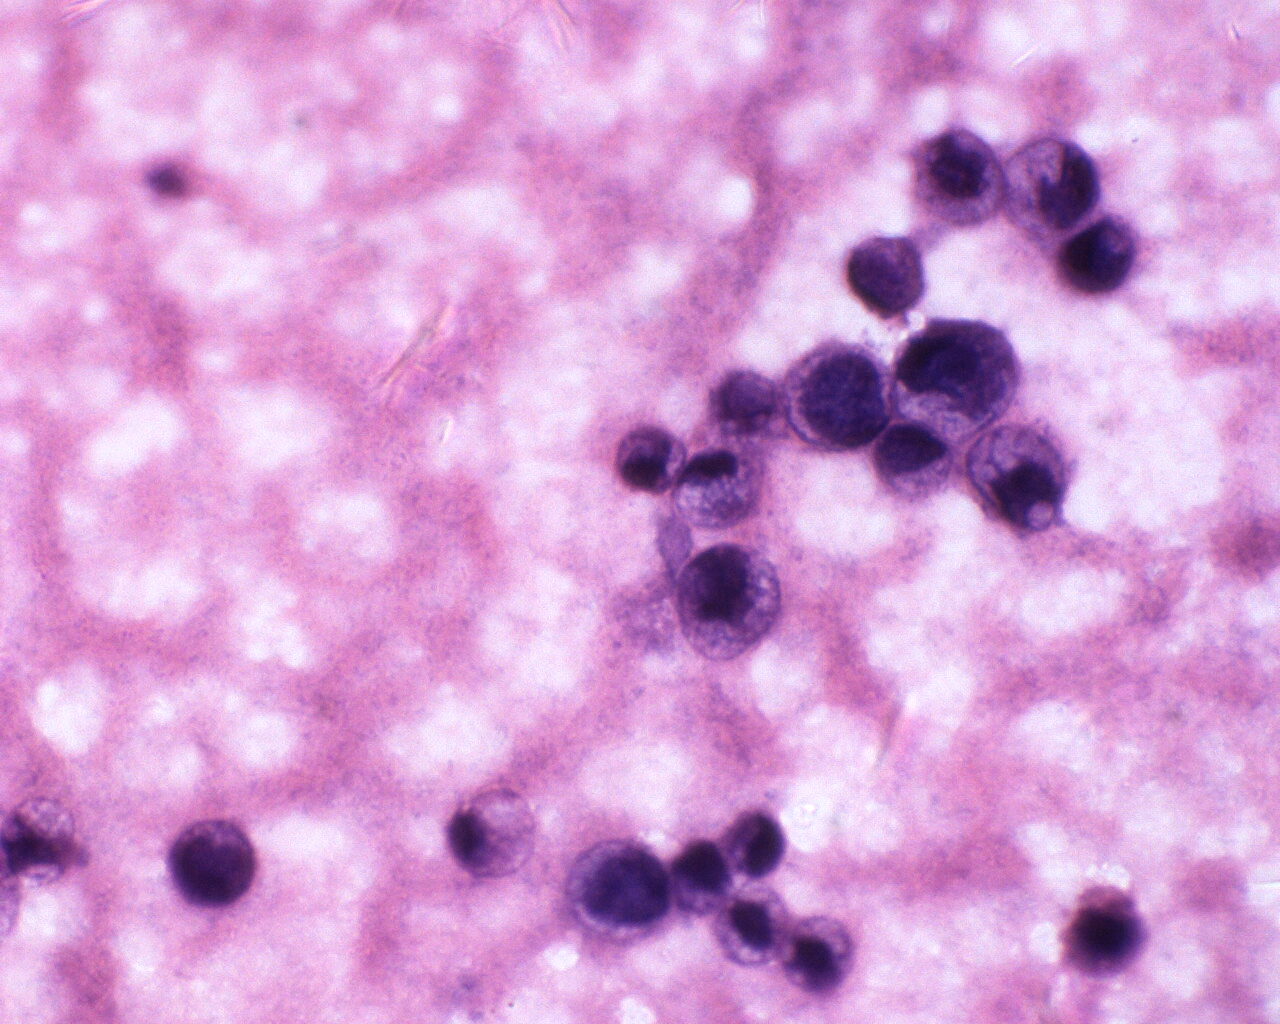ab: (893, 311, 1026, 440), (674, 536, 784, 665), (783, 336, 897, 459), (564, 834, 674, 945), (912, 123, 1009, 232), (1054, 879, 1150, 984), (1008, 134, 1107, 230), (166, 817, 261, 914), (838, 230, 931, 322), (1055, 210, 1141, 305), (865, 417, 954, 505), (783, 912, 861, 997), (717, 887, 793, 969), (721, 806, 796, 884), (672, 833, 739, 921)
histo: (446, 784, 543, 883), (675, 445, 765, 530)
